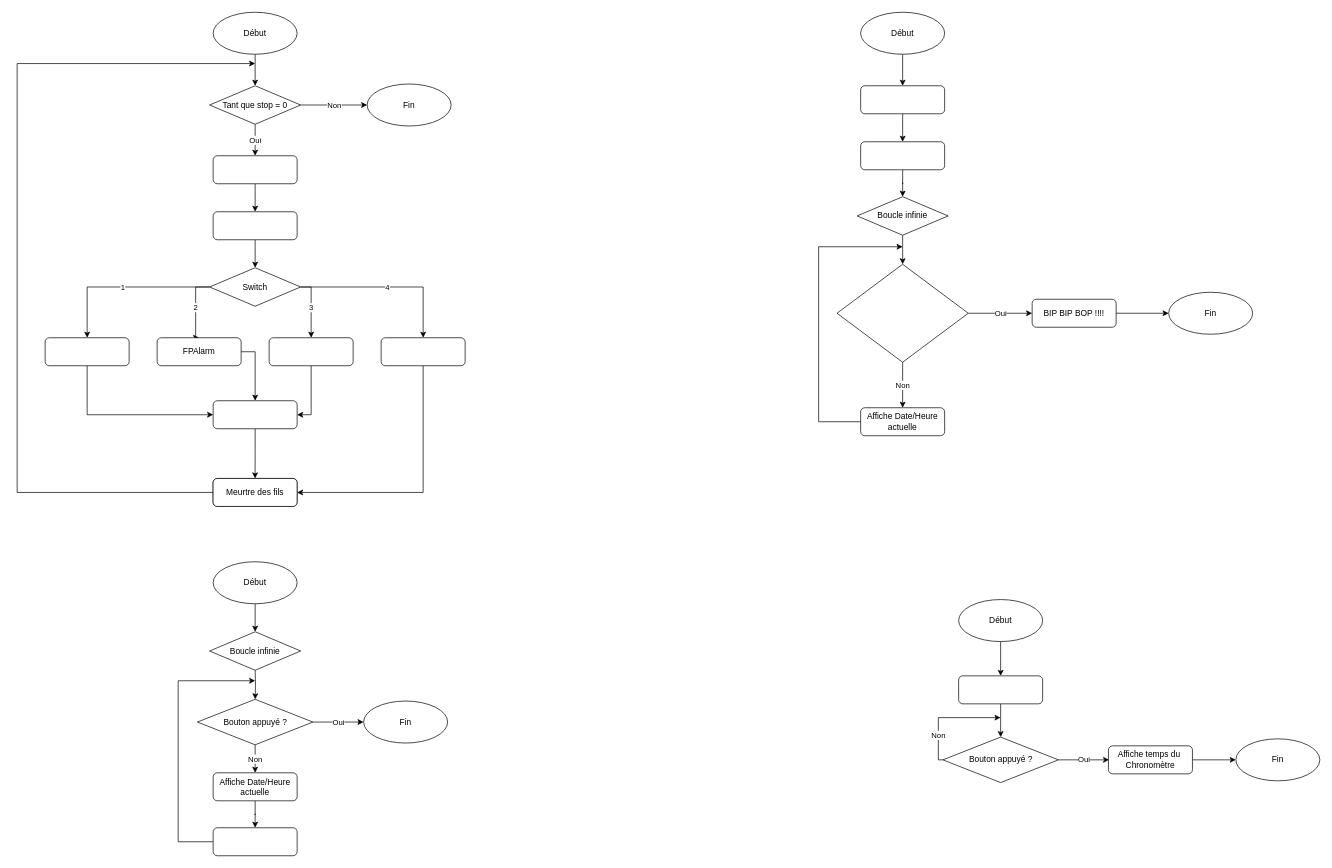
This 1332x868 diagram has some shape labels left out. Here are the shapes that lost their labels. From the top down, the box of each, then its label:
(860, 85, 945, 114): Heure du réveil ?
(212, 155, 297, 184): Affiche le menu
(860, 141, 945, 170): Date du réveil ?
(212, 211, 297, 240): Fork()
(836, 264, 968, 362): Si Heure acutelle = Heure réveil && Si Date acutelle = Date révei
(44, 337, 129, 366): FPChrono
(268, 337, 353, 366): FPAffHD
(380, 337, 465, 366): Stop
(212, 400, 297, 429): S'excécute dans une autre fenêtre
(958, 675, 1043, 704): Lancement du Chronomètre
(212, 827, 297, 856): Raffraichir (toutes les secondes)
